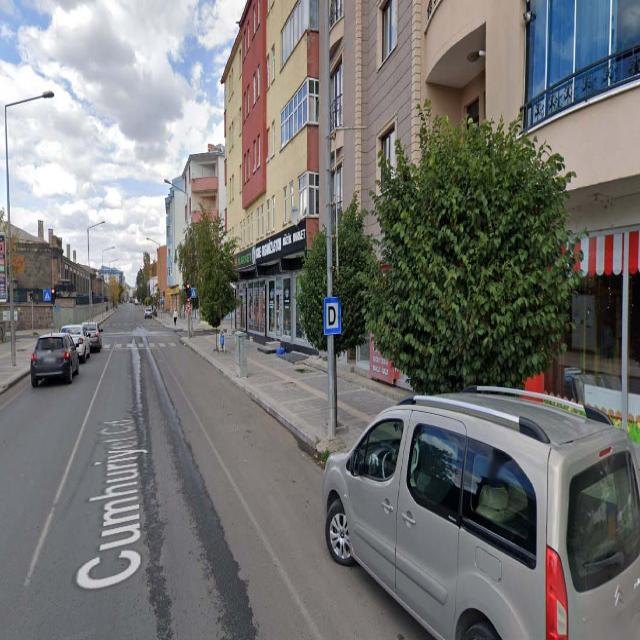durak: (323, 298, 341, 333)
